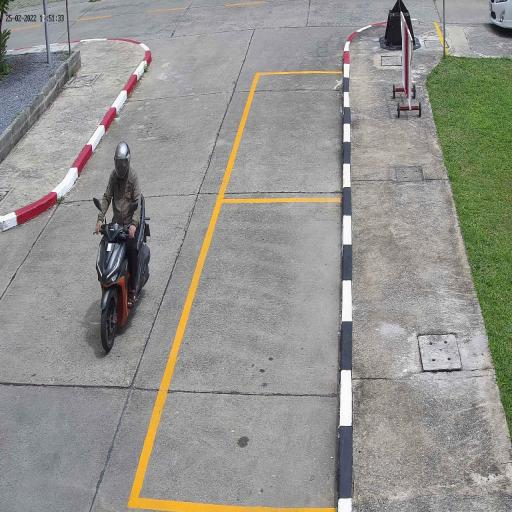motorcycle: (95, 219, 152, 353)
